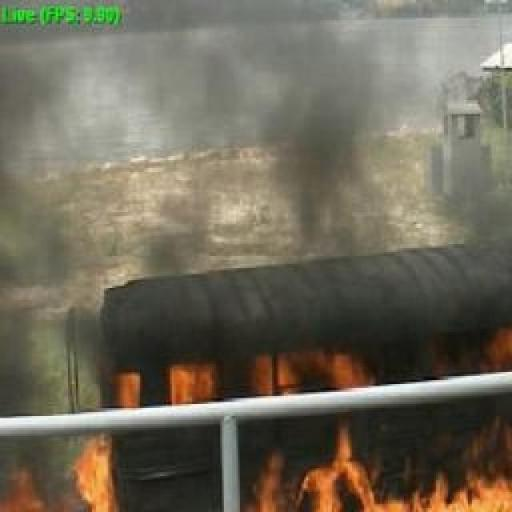smoke: (245, 429, 512, 512), (8, 440, 122, 511), (118, 358, 278, 401), (289, 352, 368, 391)
